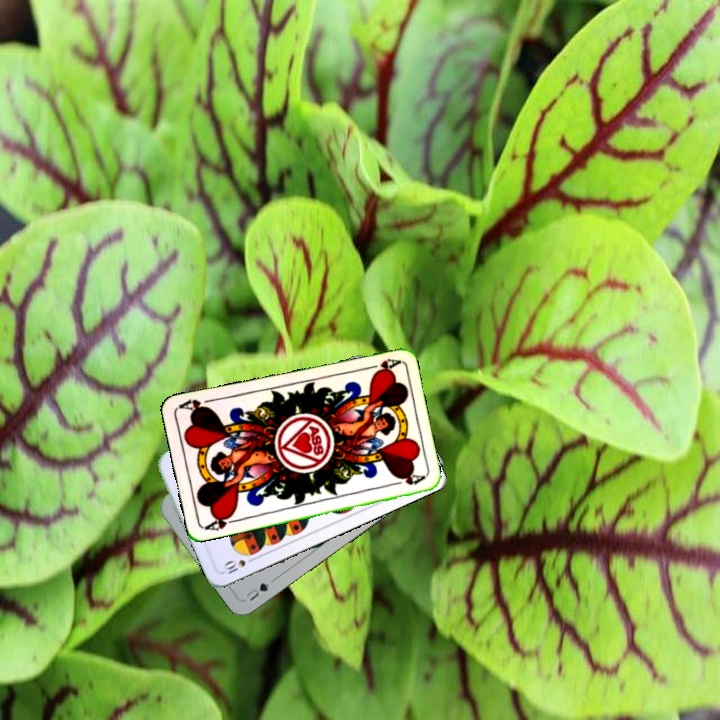GU: (242, 579, 272, 604)
HA: (201, 509, 241, 533), (360, 354, 401, 377)
S10: (219, 549, 258, 577)
